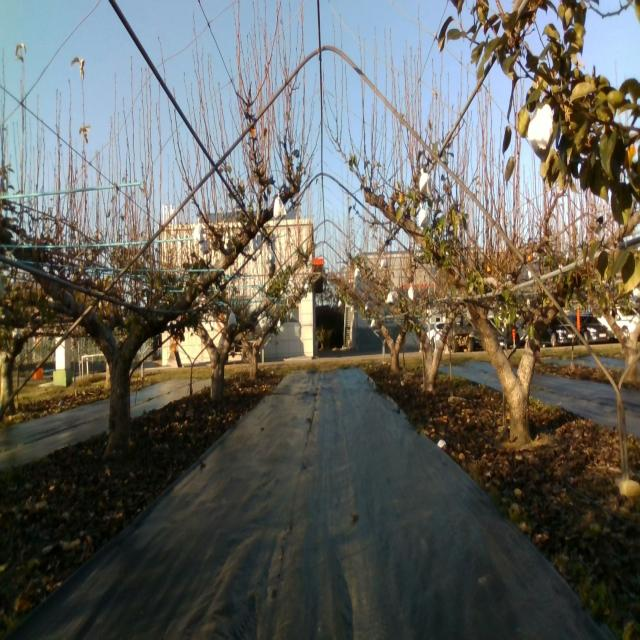pearbags: (527, 103, 553, 159), (420, 170, 433, 199), (193, 218, 206, 246), (272, 193, 286, 219), (418, 202, 429, 229)
